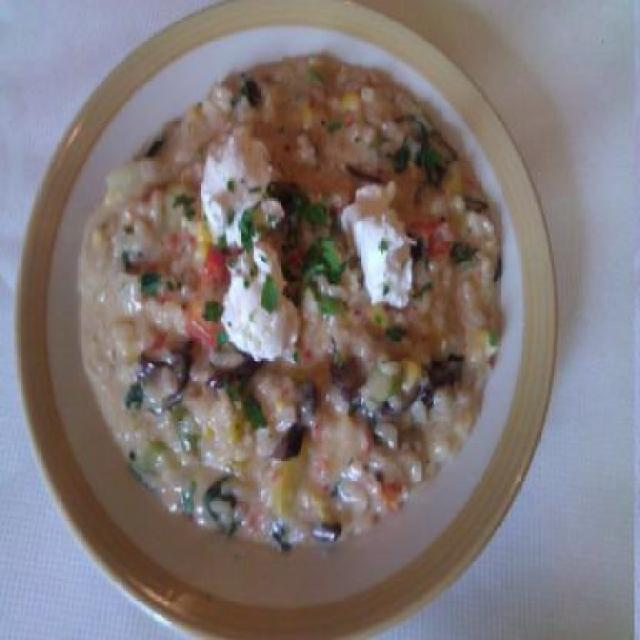Risotto: (76, 61, 516, 572)
